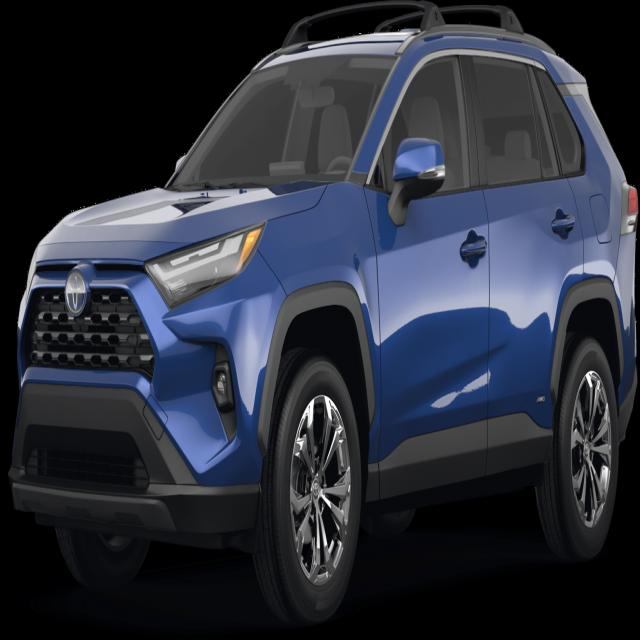light_vehicle: (10, 6, 640, 623)
